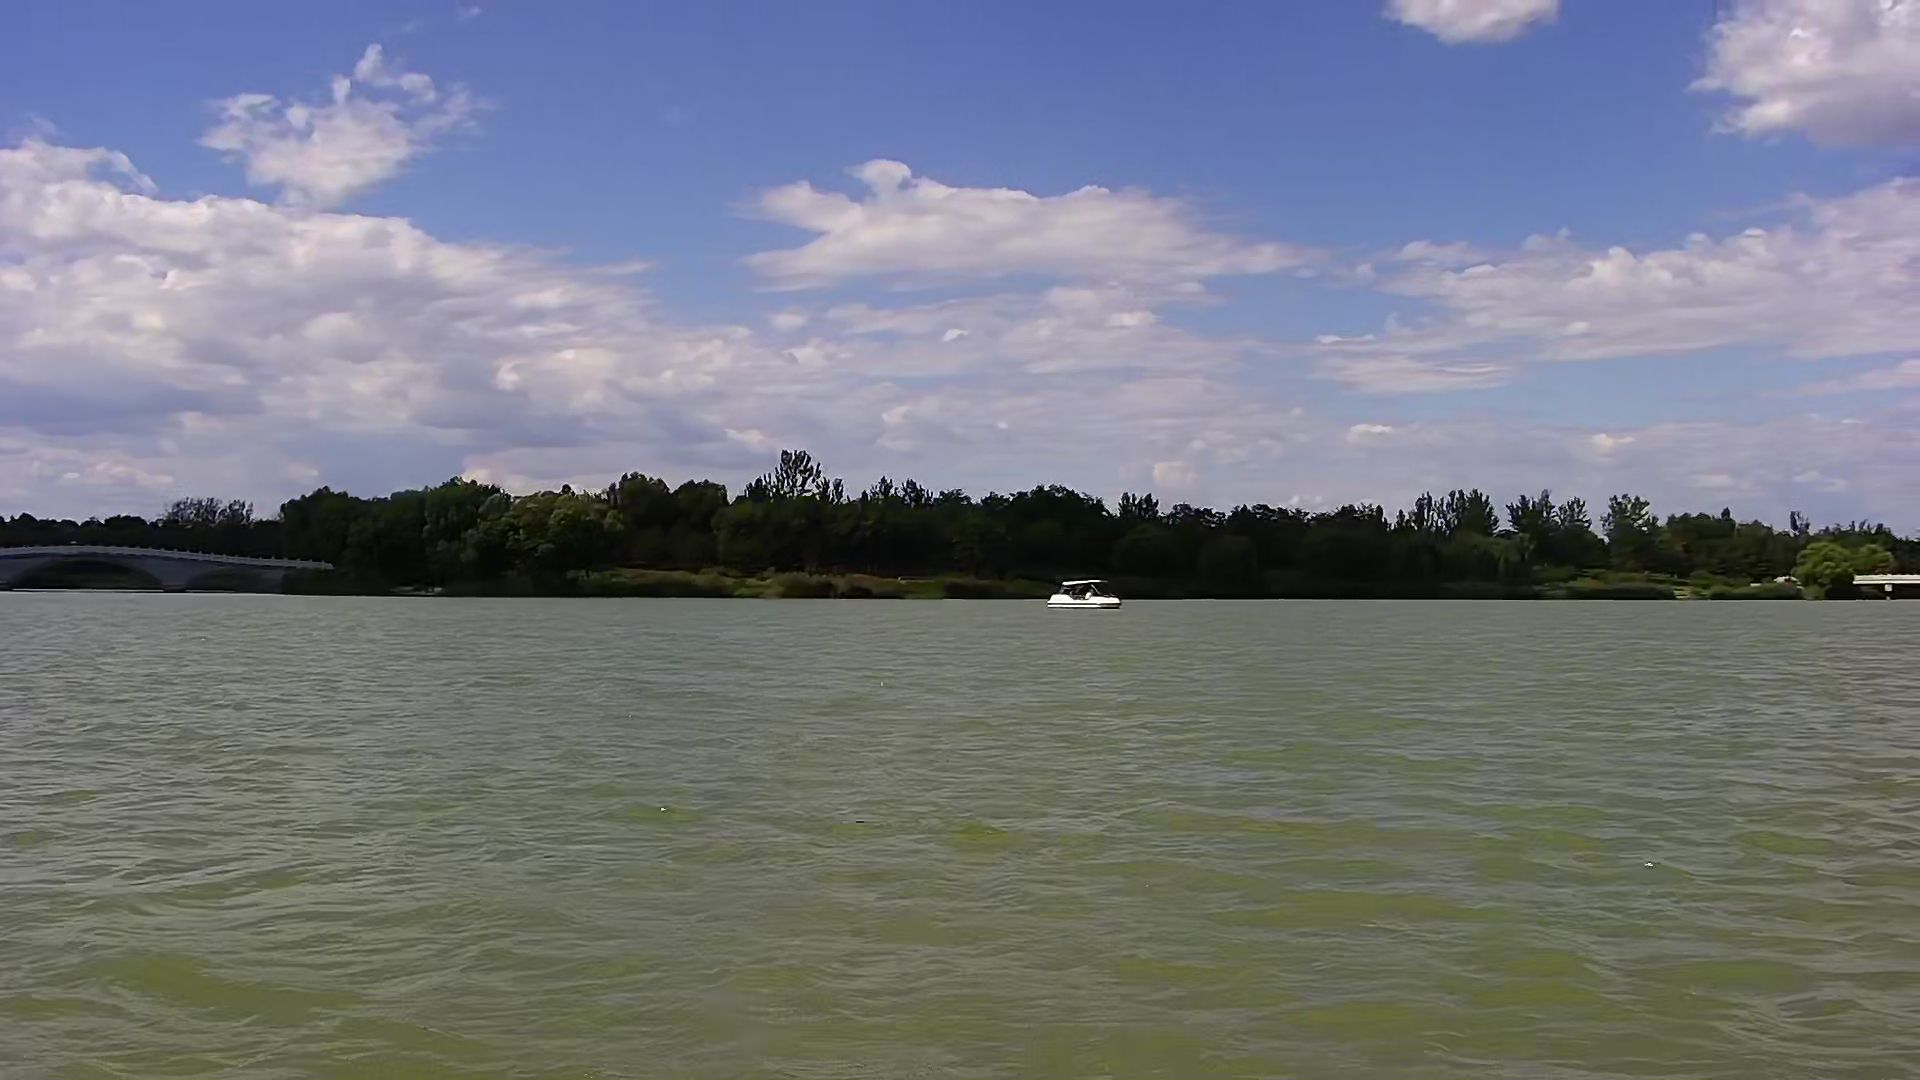boat: (1036, 576, 1129, 620)
bridge: (1, 538, 334, 593)
